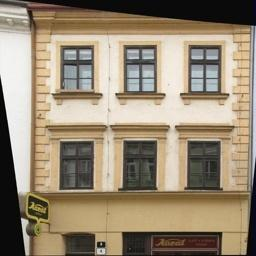building: (23, 4, 248, 256)
